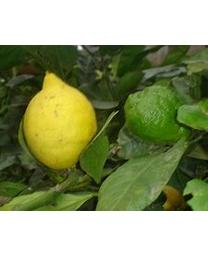lemon: (23, 71, 97, 172), (126, 85, 196, 148)
